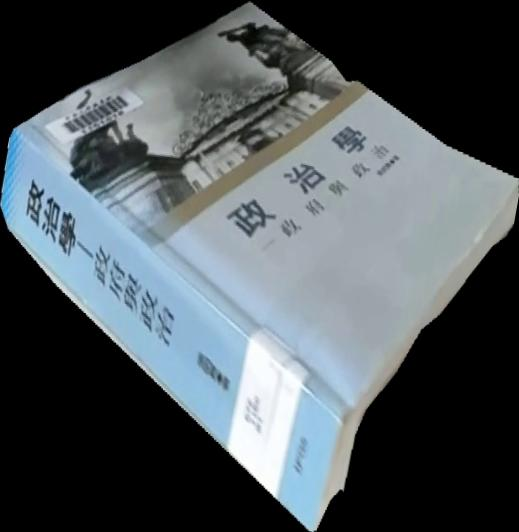flat: (1, 1, 519, 532)
